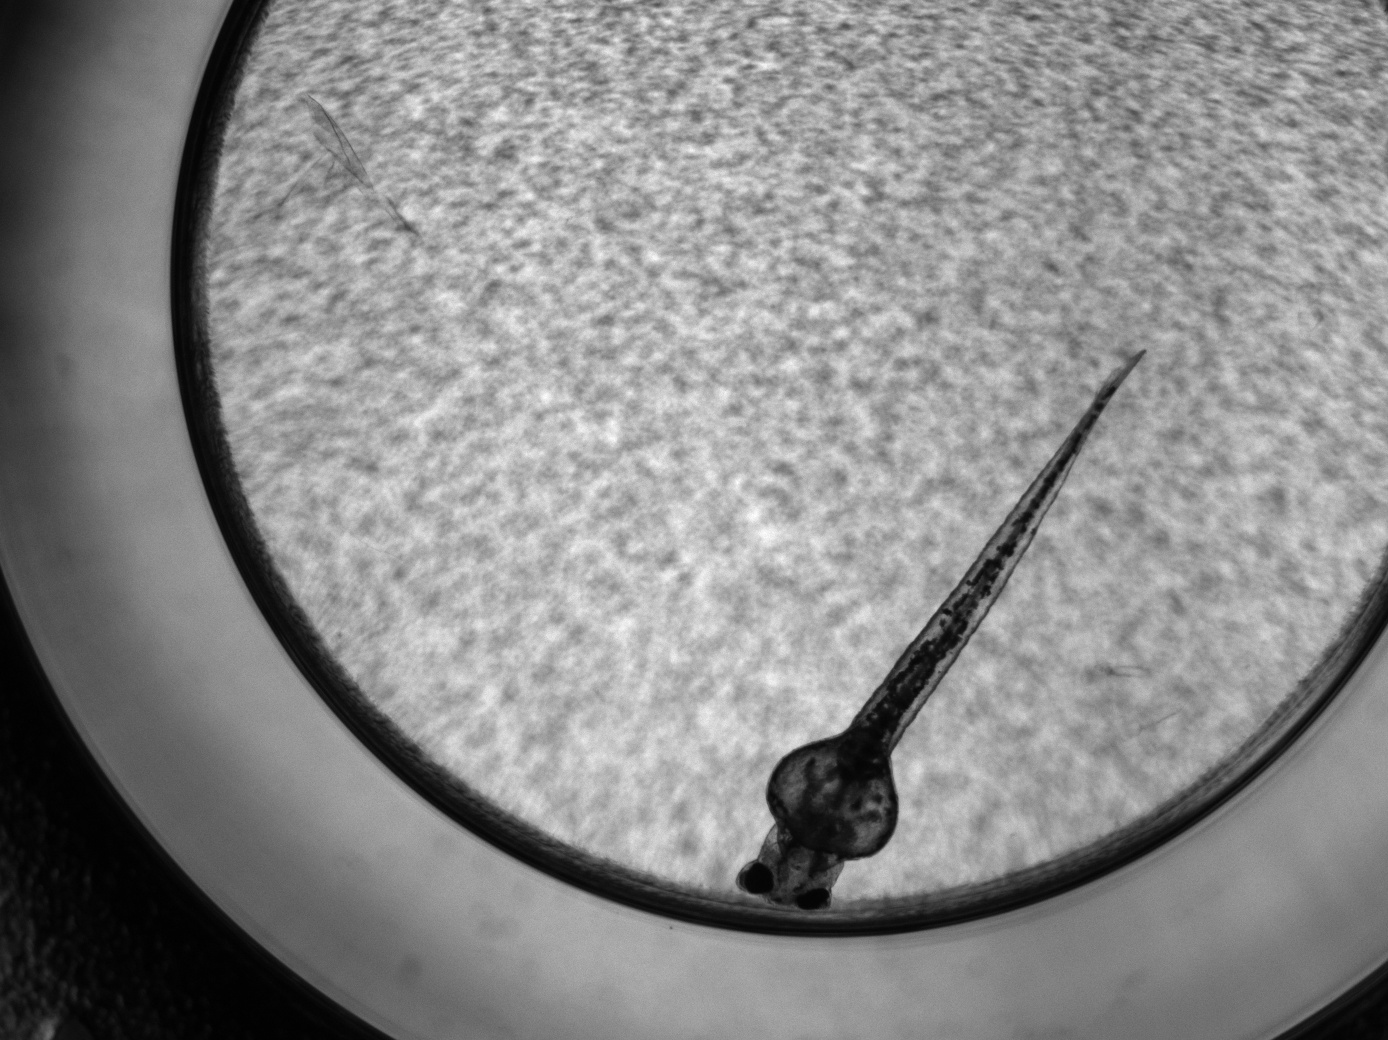embryo: (739, 346, 1149, 912)
eye: (742, 863, 775, 895), (795, 889, 831, 911)
yolksac: (766, 734, 899, 858)
